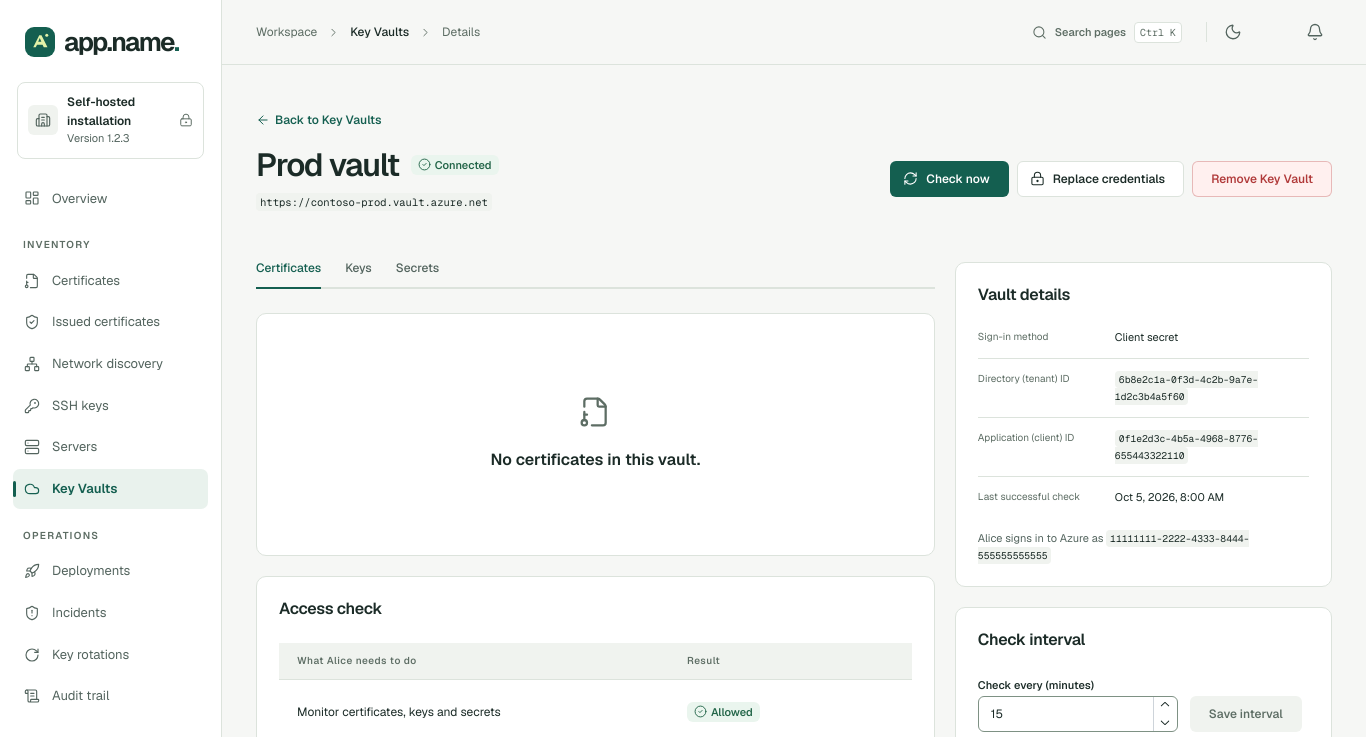
Test case: KeyVaultDetailPage header › actions › replaces the credentials and says so
Click the button "Replace credentials" at (1100, 179), box [1017,161,1184,197]
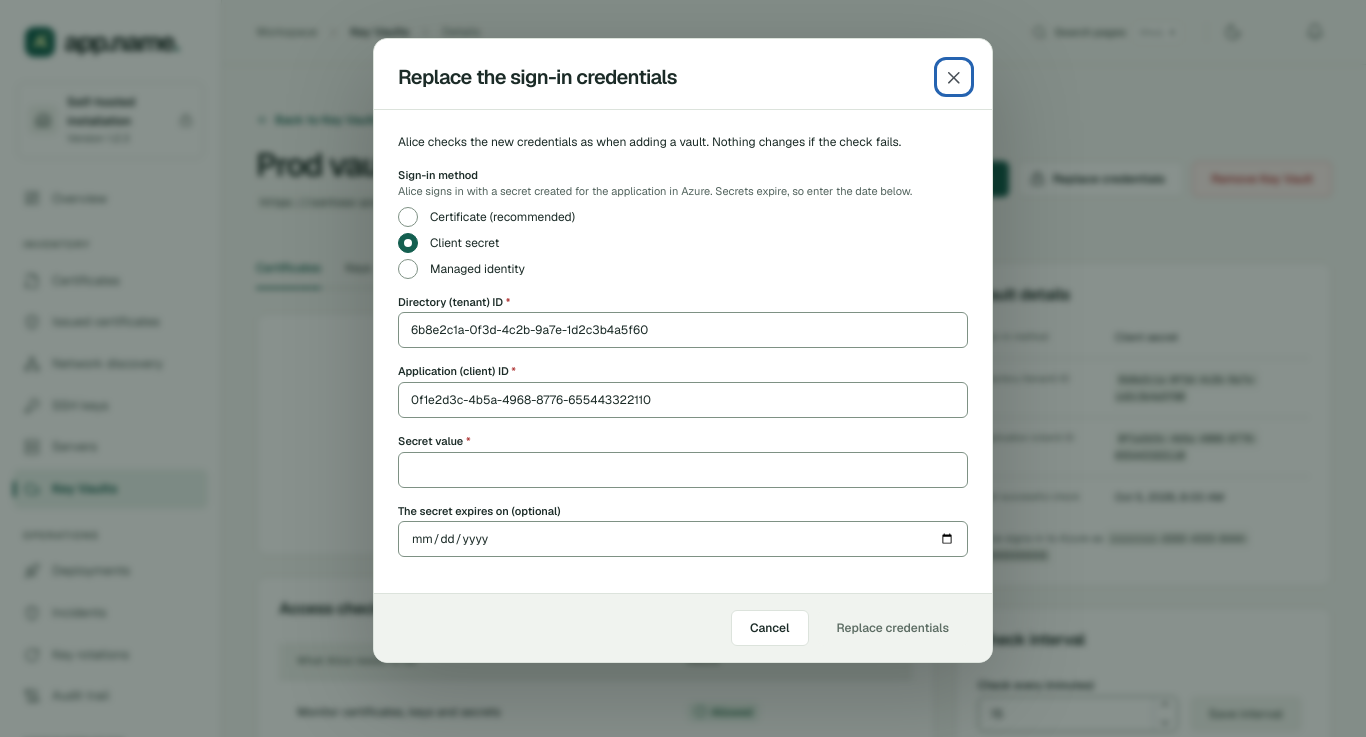
Type "fake-new-secret" into the password field labelled "Secret value *" at (683, 470), box [398,452,968,488]
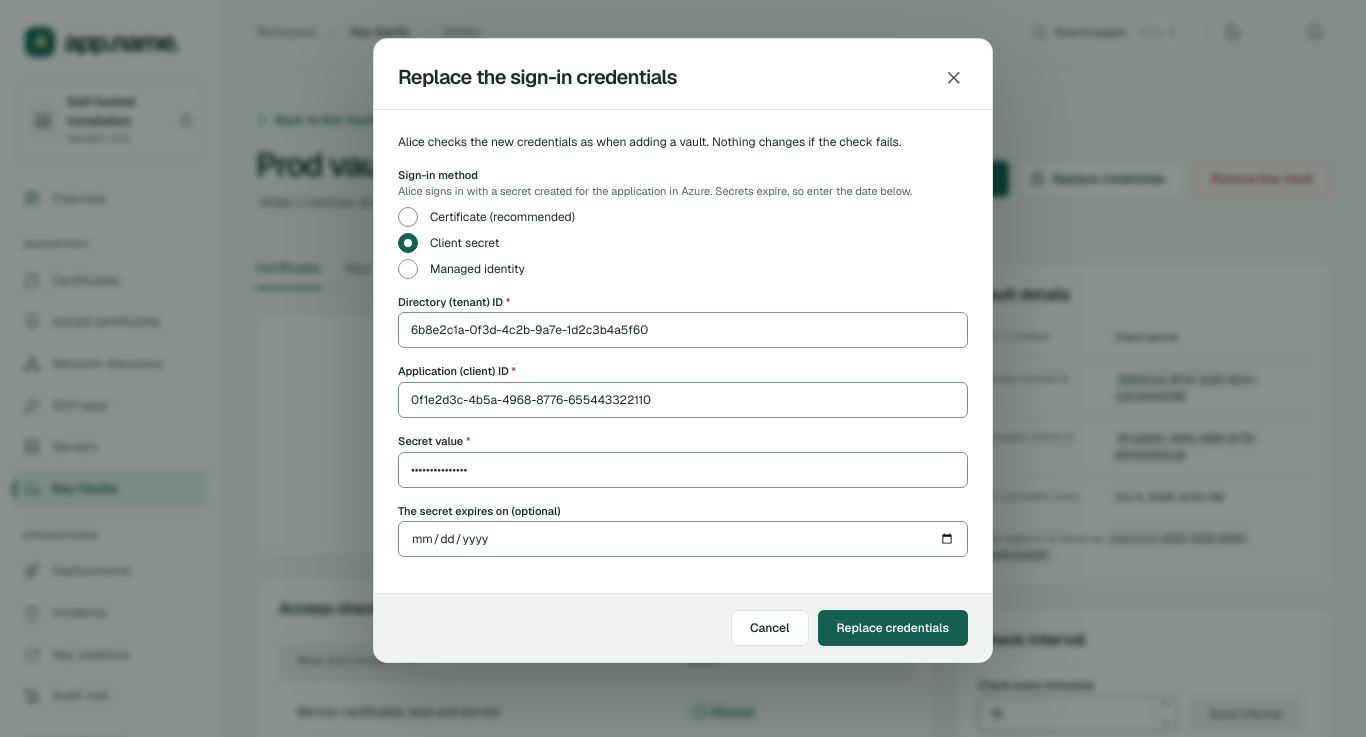
Click the button "Replace credentials" at (893, 628), box [818,610,968,646]
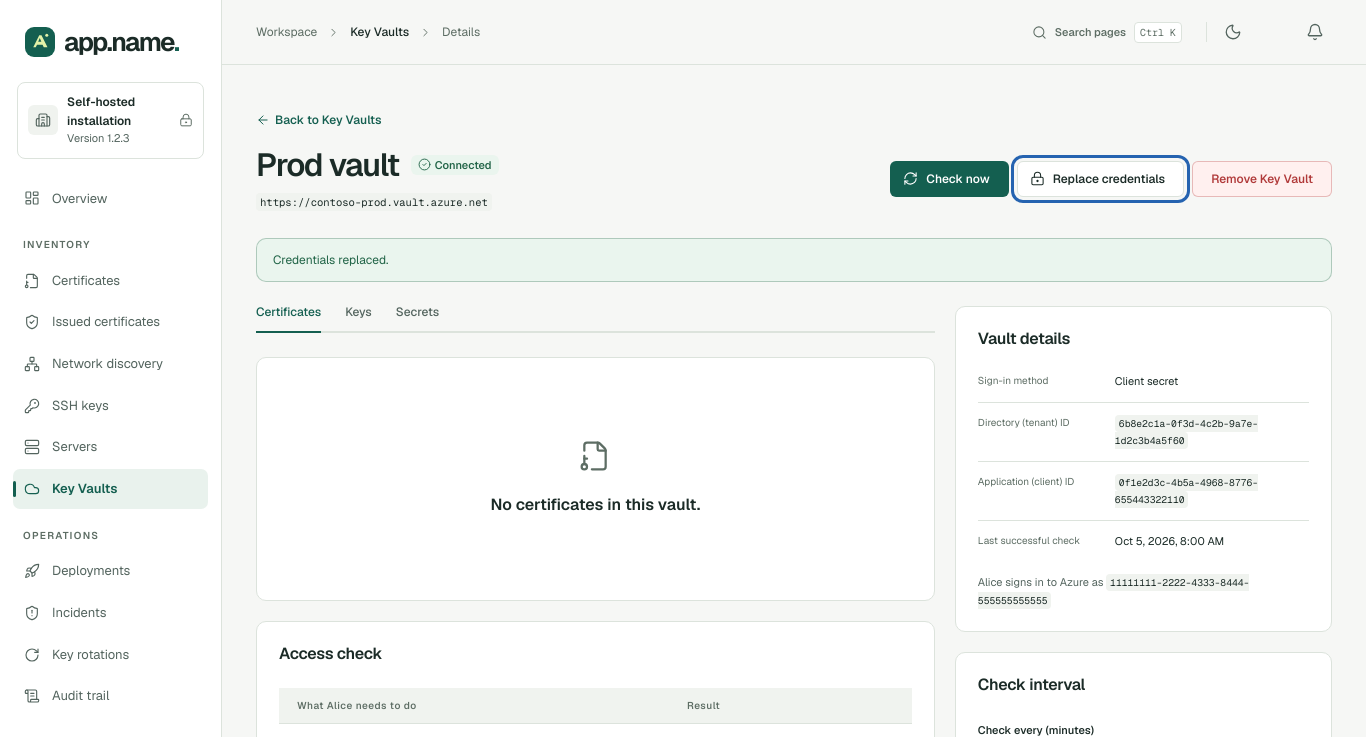
Expected: the text "Credentials replaced." is shown, [273,252,388,268]
Expected: the dialog is gone
